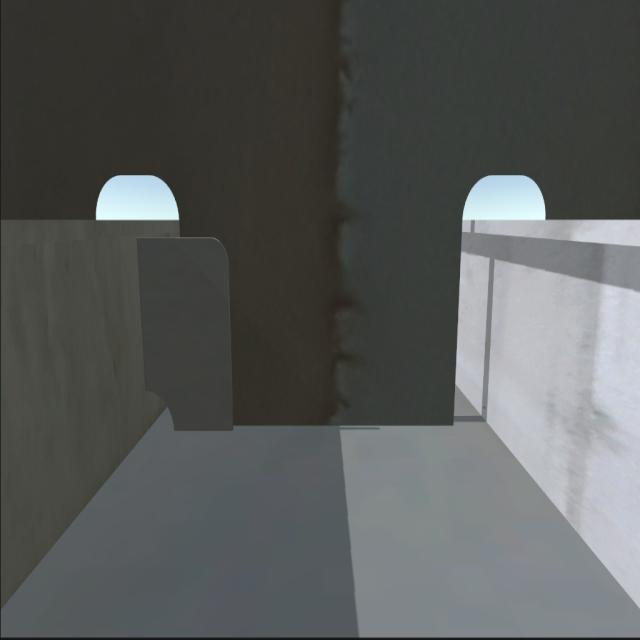fillet_hole: (147, 385, 177, 437)
fillet_yong_jeop_jang: (168, 422, 458, 438)
longi_yong_jeop_jang: (128, 233, 158, 389)
plate_CP05: (131, 225, 241, 438)
